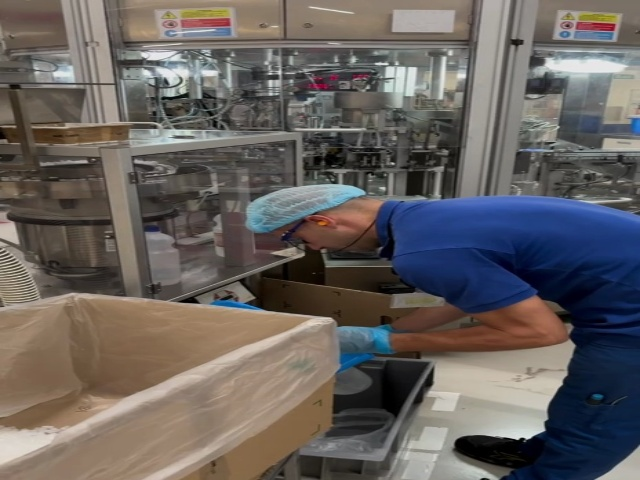Earplug: (309, 214, 340, 232)
Hairnet: (246, 181, 354, 234)
No_Helmet: (246, 184, 364, 237)
No_Vest: (385, 199, 640, 310)
Person: (246, 184, 640, 480)
Safety_Goggles: (276, 213, 313, 249)
